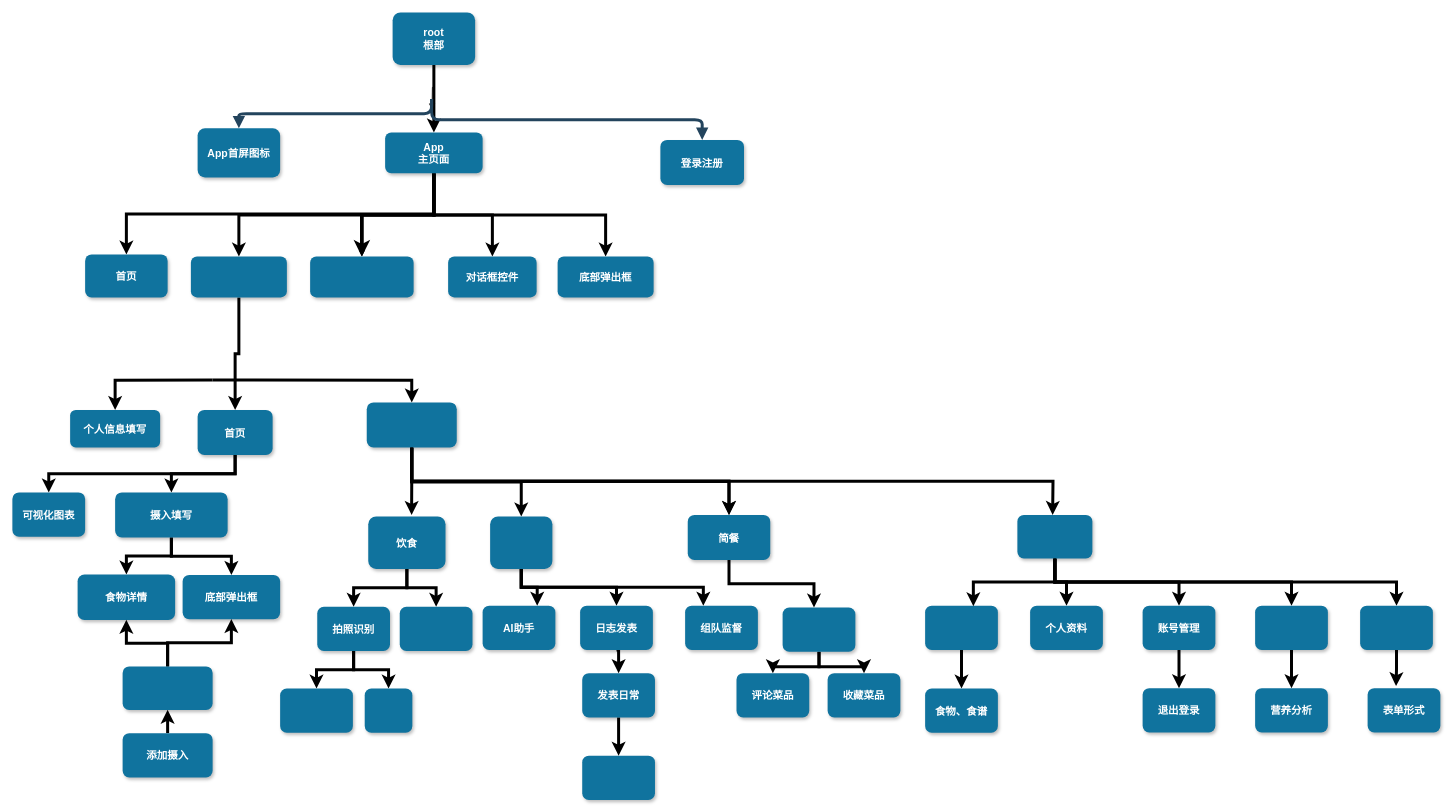
This 1453x812 diagram has some shape labels left out. Each missing label, with the centre of its shape:
"Anroid手机界面" belongs at point 239,277.
"个人中心" belongs at point 1055,537.
"底部Lab栏" belongs at point 412,425.
"我的收藏" belongs at point 962,628.
"搜索" belongs at point 436,629.
"搜索控件" belongs at point 362,277.
"摄像头封装" belongs at point 317,711.
"更多" belongs at point 521,543.
"本地图片" belongs at point 388,711.
"每日摄入" belongs at point 1292,628.
"菜谱" belongs at point 819,630.
"评论及邀请" belongs at point 619,778.
"身体数据" belongs at point 1397,628.
"选择食物" belongs at point 168,689.
